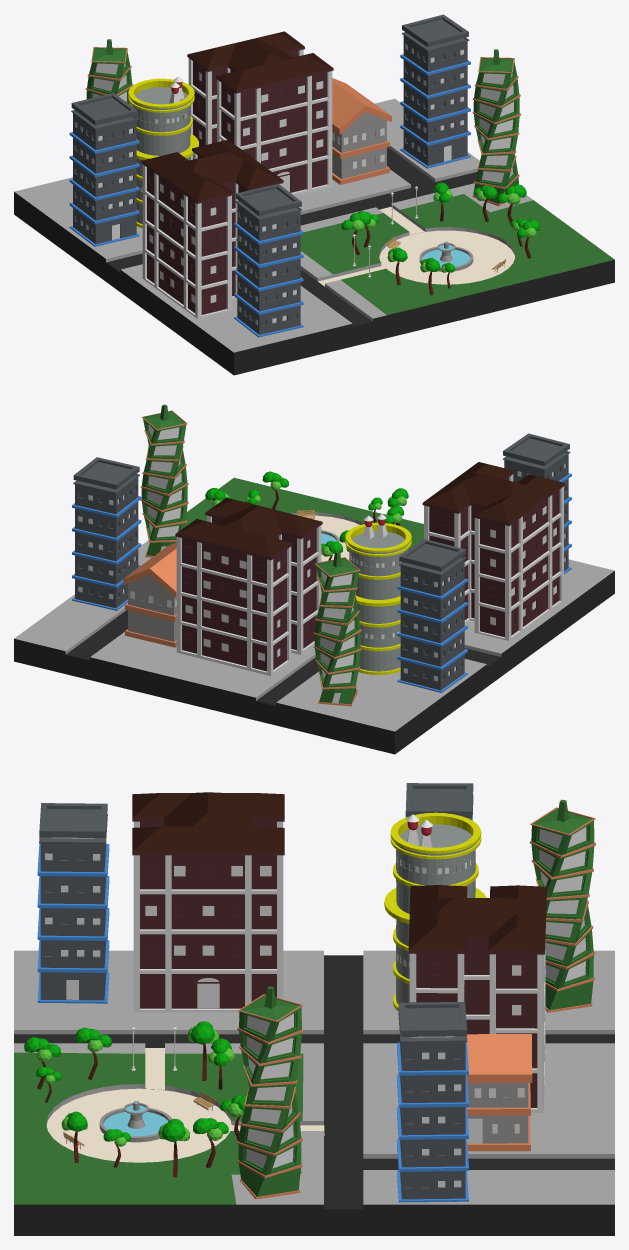
File: GPS scence1.fbx
The picture shows the model from 3 angles, top to bottom: view 1: azimuth 30°, elevation 25°; view 2: azimuth 150°, elevation 25°; view 3: azimuth 270°, elevation 25°; orthographic projection. The views are drawn at different scales.
Visible parts, largest first — view 1: decorative_street_light.001; view 2: decorative_street_light.001; view 3: decorative_street_light.001.
Boxes of the visible parts, x1,y1,x2,y2 form: decorative_street_light.001: [14, 14, 614, 375]; decorative_street_light.001: [14, 404, 614, 754]; decorative_street_light.001: [14, 783, 614, 1235].
Size of the model in its own units: 3769 by 1604 by 3769.
